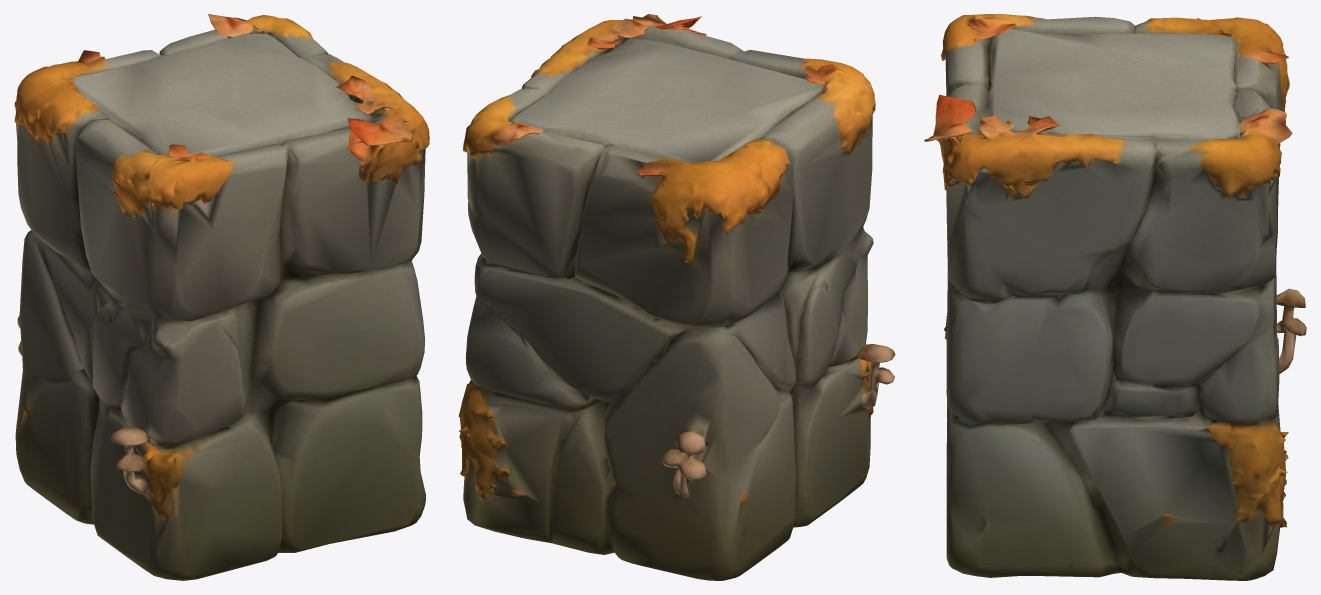
The picture shows the model from 3 angles, left to right: view 1: azimuth 30°, elevation 25°; view 2: azimuth 150°, elevation 25°; view 3: azimuth 270°, elevation 25°; orthographic projection. The views are drawn at different scales.
Parts seen in each view (by area): view 1: world; view 2: world; view 3: world.
Part boxes in pixels (box(x1,y1,x2,y2)): world: box(14, 14, 429, 580); world: box(458, 14, 895, 580); world: box(924, 14, 1306, 580).
Bounding box in the file's own units: 0.7675 × 1 × 0.781.
1 material, 1 textured.
